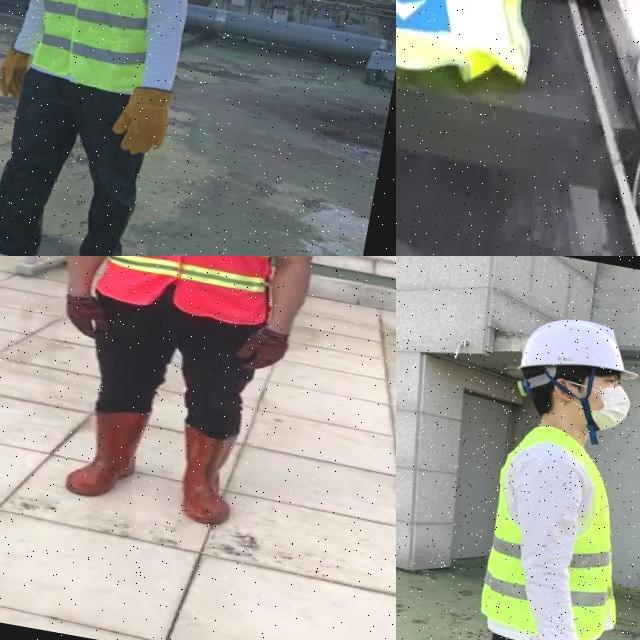boots: (63, 402, 147, 502), (168, 422, 246, 528)
helmet: (517, 309, 640, 390)
vest: (475, 420, 640, 640), (396, 0, 556, 97), (90, 256, 293, 327), (29, 0, 173, 96)
